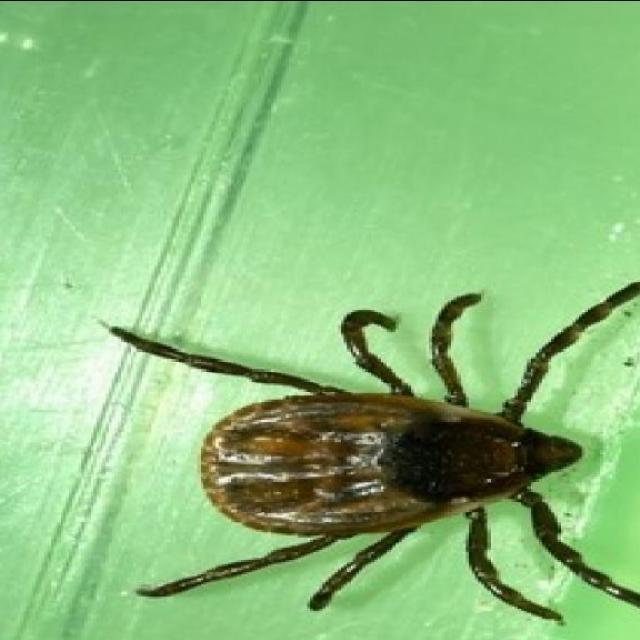Rhipicephalus Sanguineus-F: (112, 281, 640, 622)
